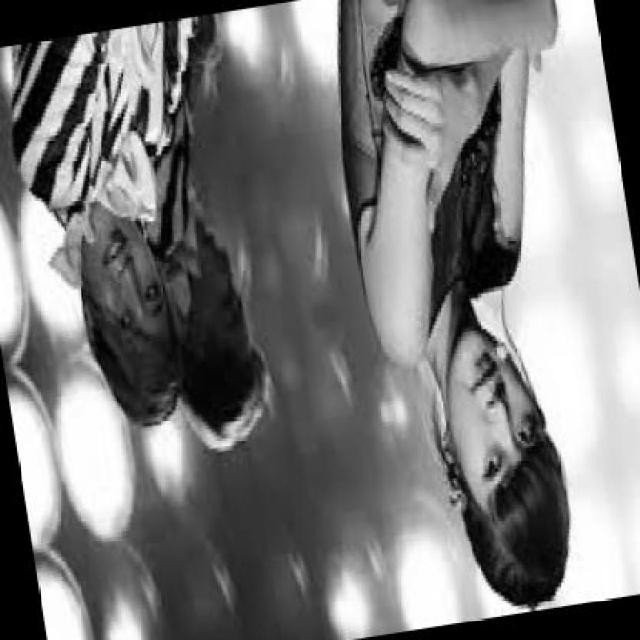earphone: (434, 445, 469, 506)
